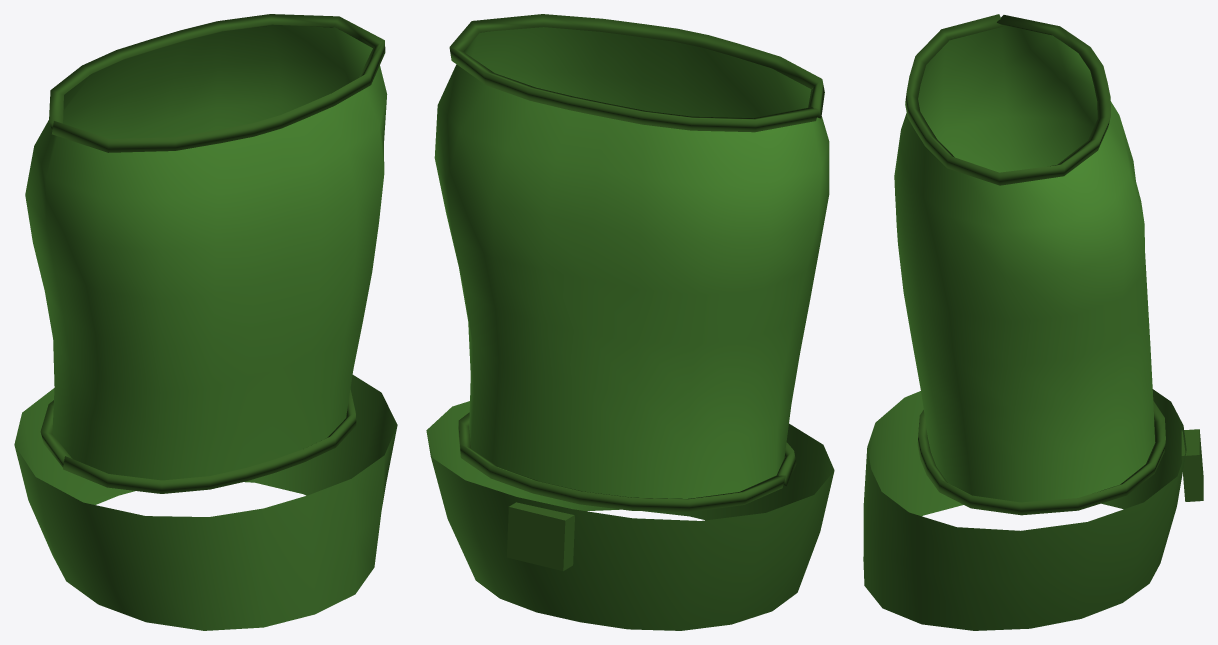
File: jungle_shirt.glb
3 views of the same model, side by side, from view 1: azimuth 30°, elevation 25°; view 2: azimuth 150°, elevation 25°; view 3: azimuth 270°, elevation 25° (orthographic). The views are drawn at different scales.
Parts seen in each view (by area): view 1: jungle_shirt_chest; view 2: jungle_shirt_chest; view 3: jungle_shirt_chest.
Boxes of the visible parts, box(x1,y1,x2,y2) form: jungle_shirt_chest: box(14, 14, 397, 630); jungle_shirt_chest: box(426, 14, 834, 630); jungle_shirt_chest: box(863, 14, 1203, 630).
Bounding box in the file's own units: 0.3841 × 0.5245 × 0.3341.
